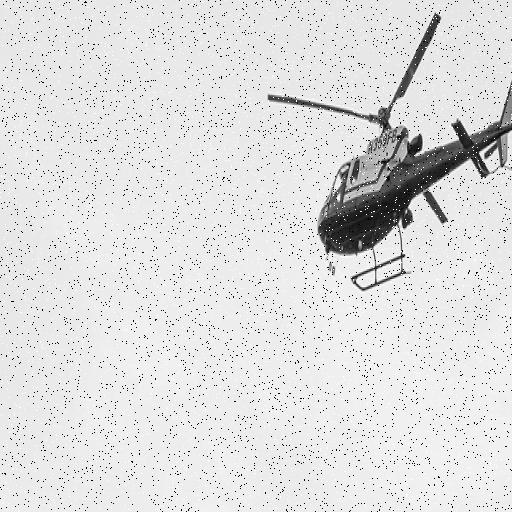helicopter: (265, 1, 512, 314)
